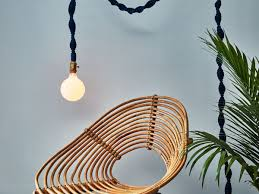bulb: (57, 68, 90, 105)
